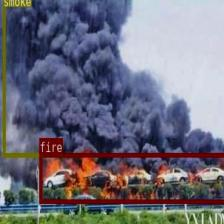fire: (38, 152, 224, 202)
smoke: (2, 0, 224, 156)
